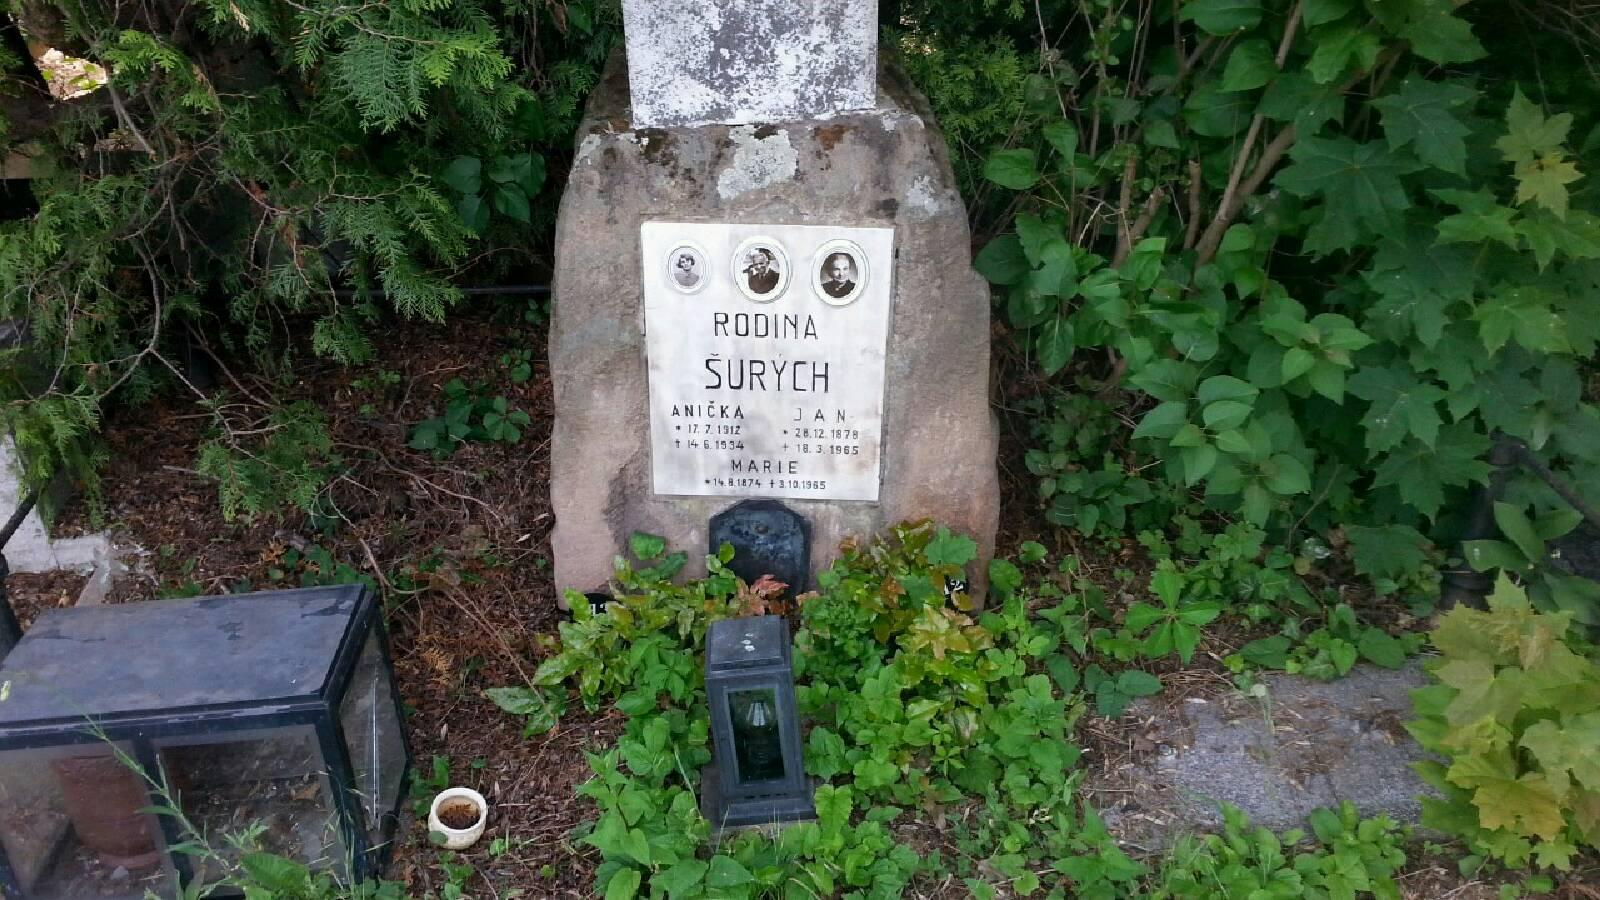upright: (537, 90, 1000, 582)
